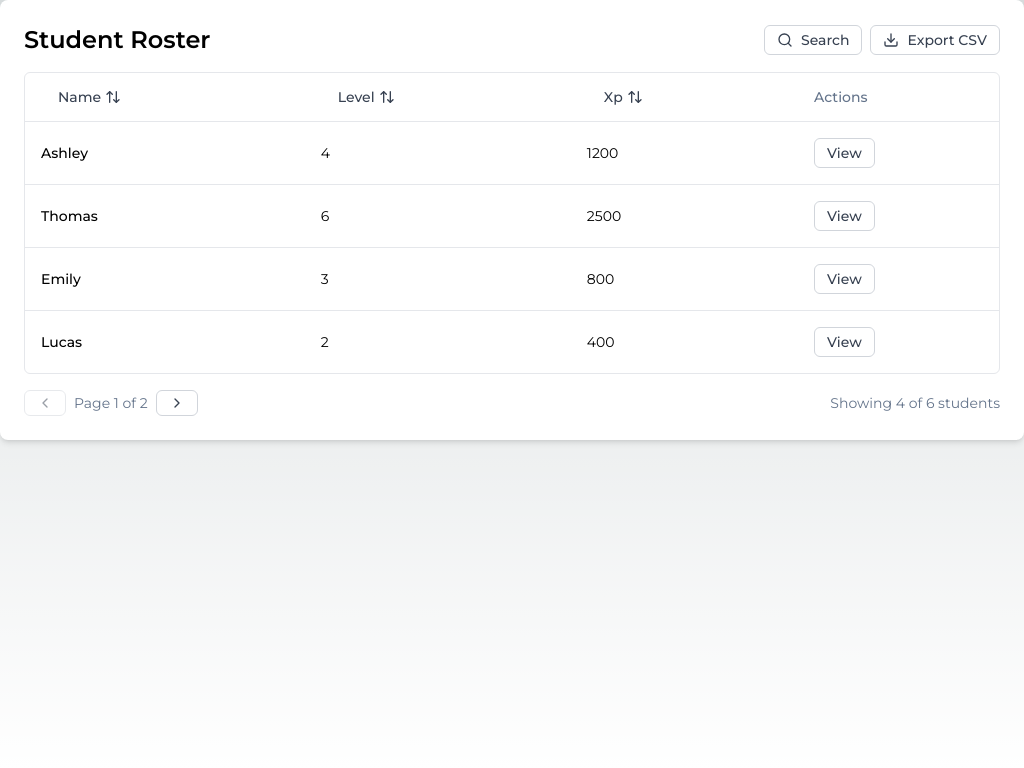
StudentRoster Performance › paginates correctly
Check: the text "Showing 4 of 6 students" is shown, box [830, 392, 1000, 412]
Step 1. Click the 2nd button named "next page" → (177, 402), box [156, 390, 198, 416]
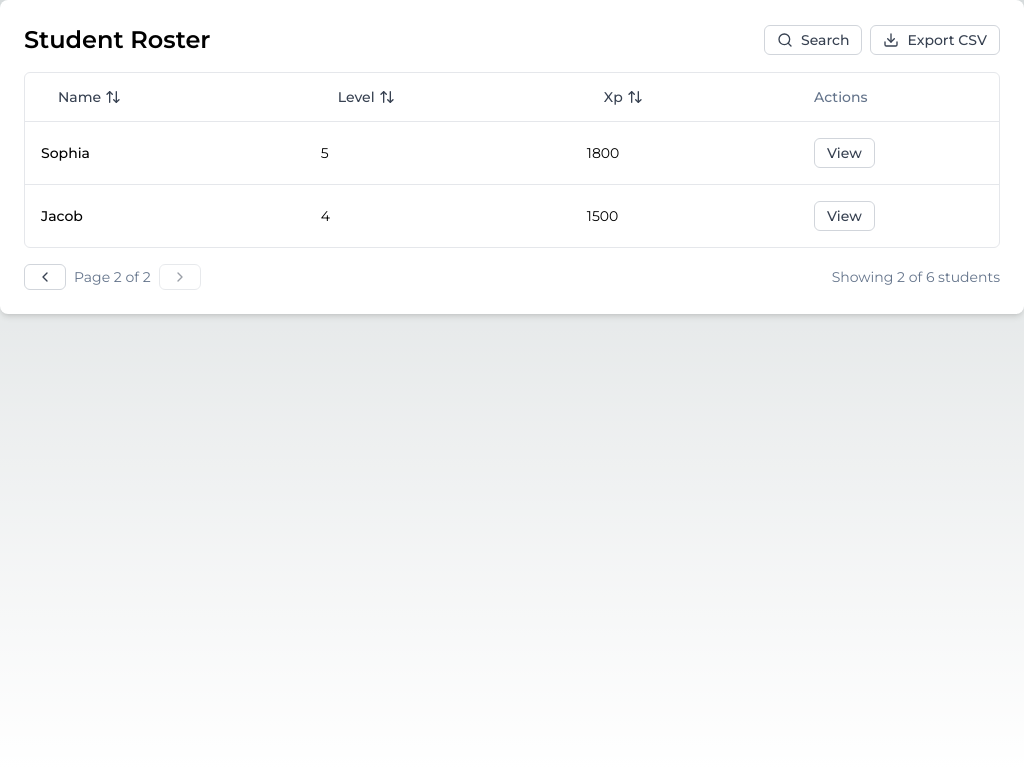
Check: the text "Showing 2 of 6 students" is shown, box [832, 266, 1000, 286]
